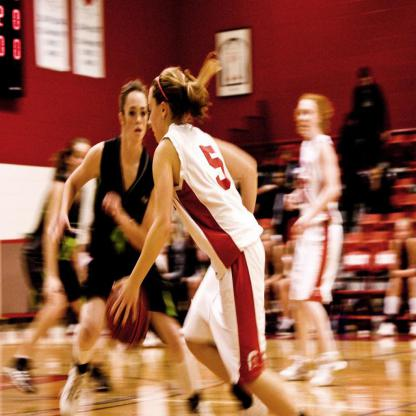Ball: (104, 289, 148, 345)
